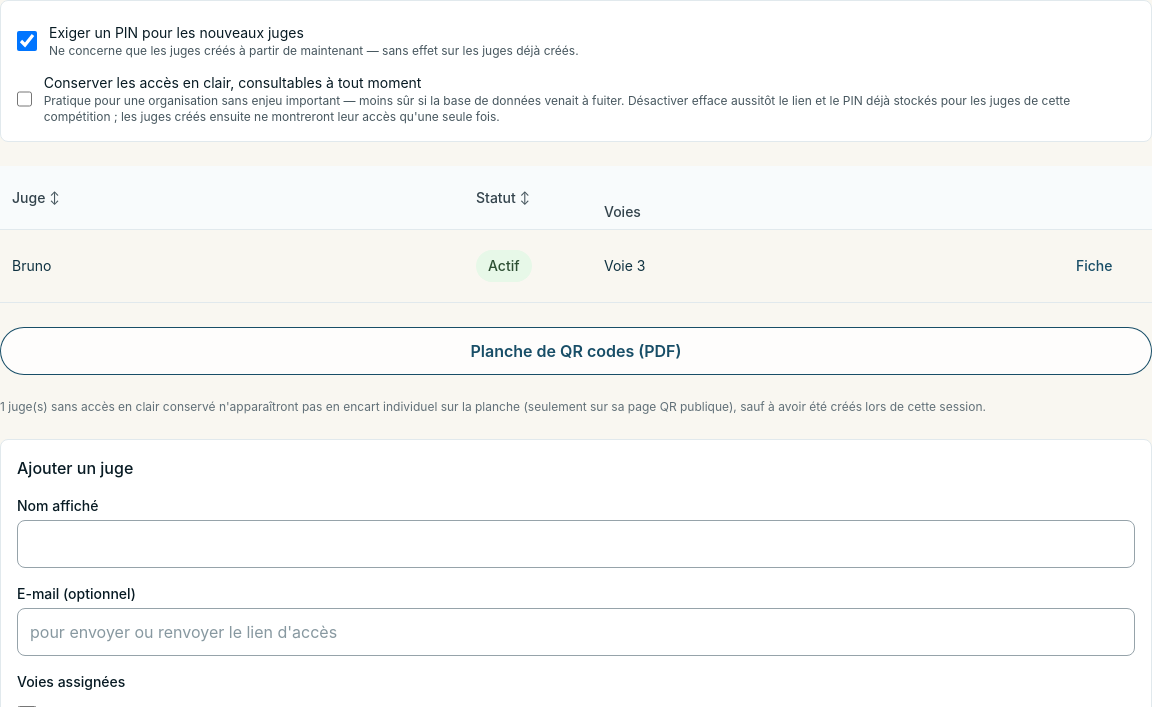
Test: JudgesTab — fiche du juge (Lot 19) › montre le nom, le statut, les voies et le dernier accès
Click the button "Fiche" at (1094, 266), box [1068,242,1120,290]
(page scrolled)
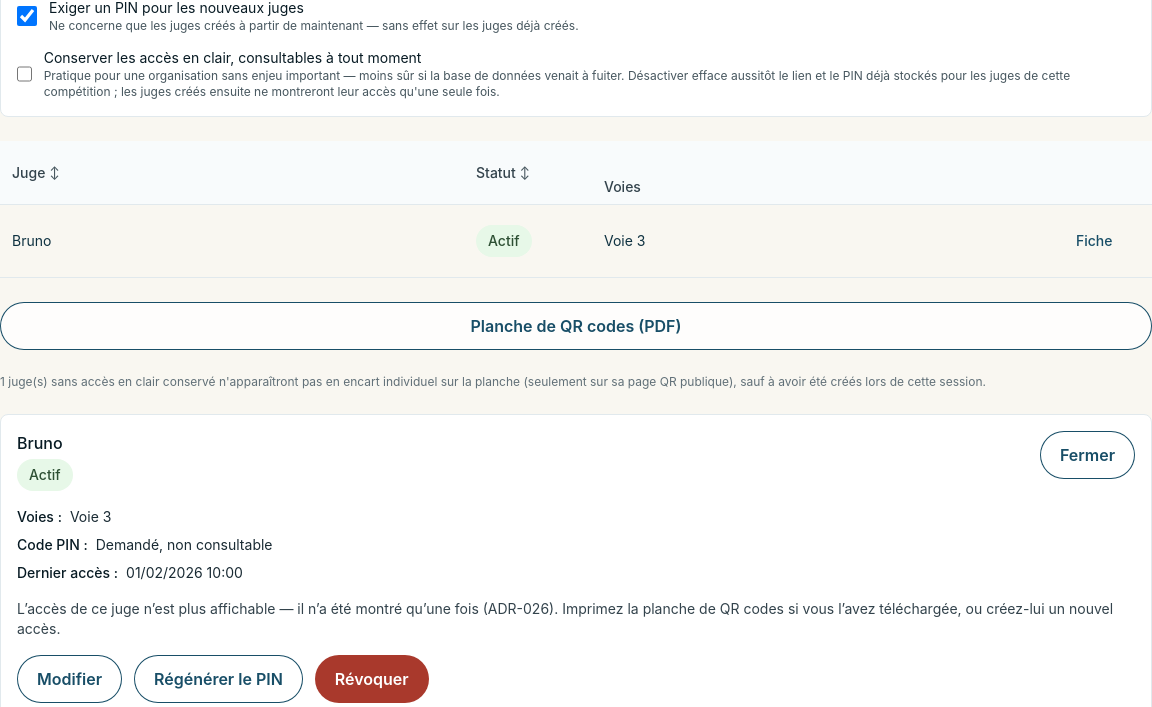
Result: the element with test id "judge-card" shows "Bruno" at [17,433,63,453]
Result: the element with test id "judge-card" shows "Actif" at [29,466,60,483]
Result: the element with test id "judge-card" shows "Voie 3" at [70,508,111,525]
